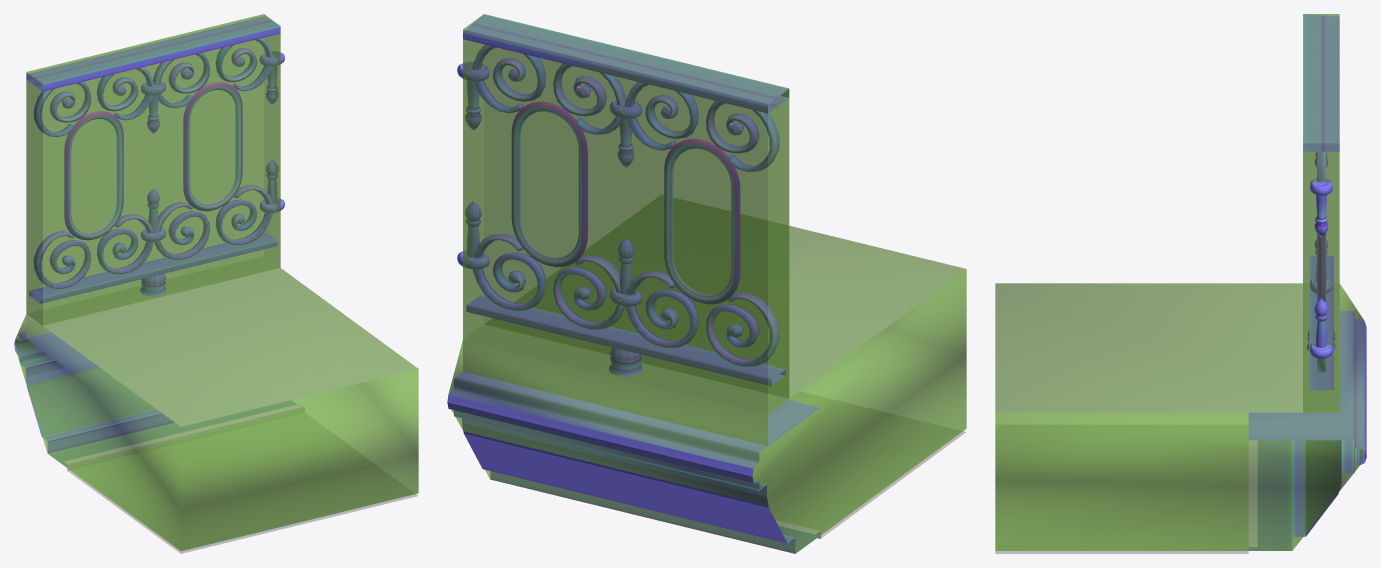
The model's file is F_md_Balcony_L_mid_04.fbx.
3 renders of one model, left to right at view 1: azimuth 30°, elevation 25°; view 2: azimuth 150°, elevation 25°; view 3: azimuth 270°, elevation 25°, orthographic. The views are drawn at different scales.
Visible parts, largest first — view 1: F_md_Balcony_L_mid_04_LOD0, F_md_Balcony_L_mid_04_col_02, F_md_Balcony_L_mid_04_col_01; view 2: F_md_Balcony_L_mid_04_LOD0, F_md_Balcony_L_mid_04_col_01, F_md_Balcony_L_mid_04_col_02; view 3: F_md_Balcony_L_mid_04_LOD0, F_md_Balcony_L_mid_04_col_02, F_md_Balcony_L_mid_04_col_01.
Part boxes in pixels (left/top/right/bottom): F_md_Balcony_L_mid_04_LOD0: left=14, top=16, right=417, bottom=553; F_md_Balcony_L_mid_04_col_02: left=15, top=256, right=418, bottom=551; F_md_Balcony_L_mid_04_col_01: left=26, top=14, right=280, bottom=325; F_md_Balcony_L_mid_04_LOD0: left=447, top=14, right=965, bottom=553; F_md_Balcony_L_mid_04_col_01: left=463, top=14, right=789, bottom=413; F_md_Balcony_L_mid_04_col_02: left=448, top=226, right=966, bottom=553; F_md_Balcony_L_mid_04_LOD0: left=995, top=14, right=1366, bottom=553; F_md_Balcony_L_mid_04_col_02: left=995, top=283, right=1364, bottom=550; F_md_Balcony_L_mid_04_col_01: left=1303, top=14, right=1339, bottom=412.
Size of what is drawn, in the model's own units: 105 by 148 by 122.
